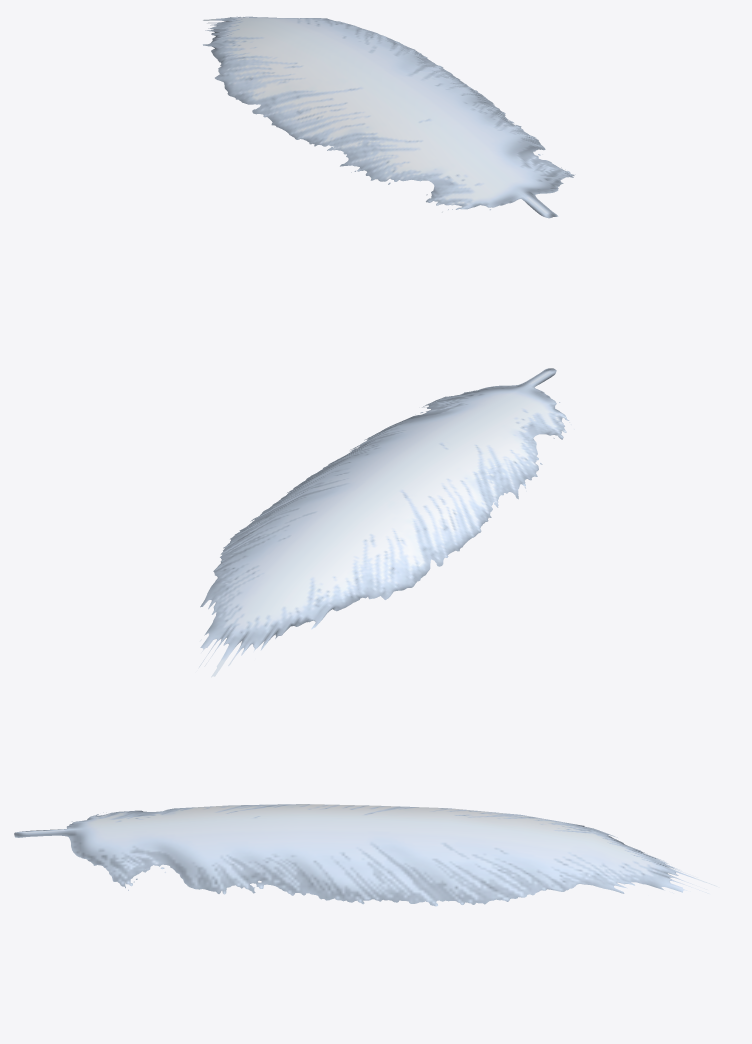
File: Feather.fbx
The picture shows the model from 3 angles, top to bottom: view 1: azimuth 30°, elevation 25°; view 2: azimuth 150°, elevation 25°; view 3: azimuth 270°, elevation 25°; orthographic projection.
Parts seen in each view (by area): view 1: pasted__pPlane1; view 2: pasted__pPlane1; view 3: pasted__pPlane1.
Boxes of the visible parts, <box> form: pasted__pPlane1: <box>203,16,575,218</box>; pasted__pPlane1: <box>198,368,574,677</box>; pasted__pPlane1: <box>14,804,719,906</box>.
Bounding box in the file's own units: 0.6 × 0.1824 × 1.
Materials: 1 (1 with a texture image).
